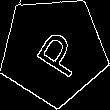P_NW: (23, 22, 84, 80)
